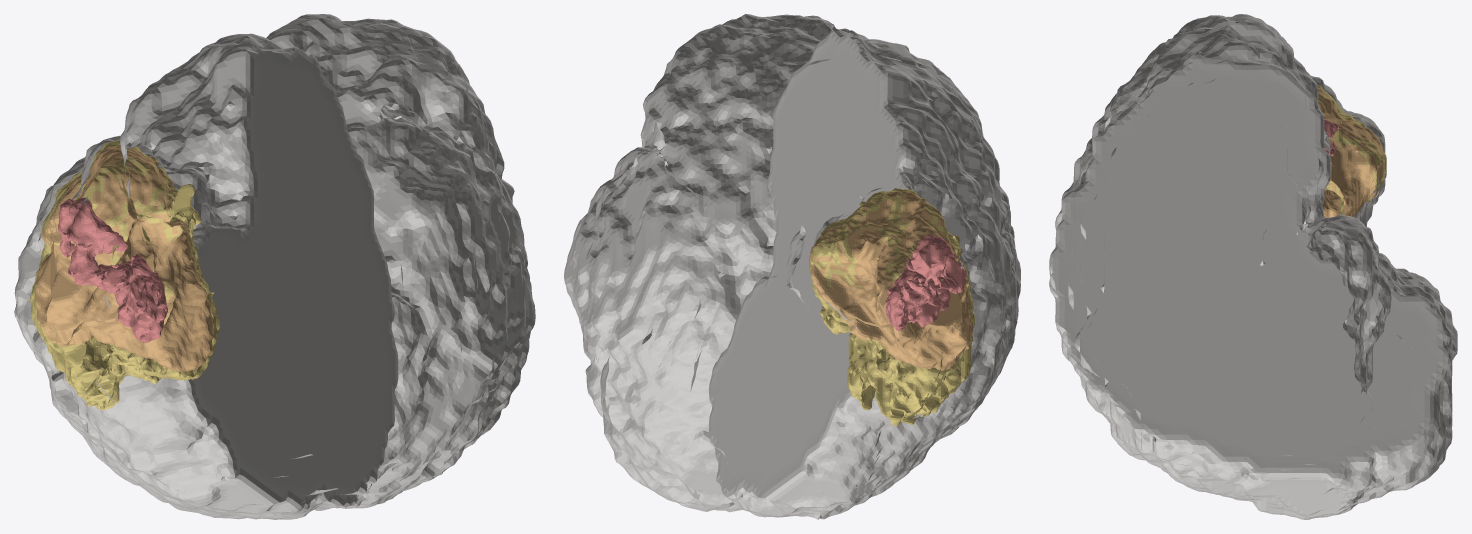
The picture shows the model from 3 angles, left to right: view 1: azimuth 30°, elevation 25°; view 2: azimuth 150°, elevation 25°; view 3: azimuth 270°, elevation 25°; orthographic projection. The views are drawn at different scales.
Parts seen in each view (by area): view 1: brain_left, brain_right, core, edema, enhancing; view 2: brain_left, brain_right, core, edema, enhancing; view 3: brain_right, brain_left, core, edema.
Part boxes in pixels (bbox=[...]): brain_left: bbox=[14, 33, 398, 519]; brain_right: bbox=[266, 14, 535, 510]; core: bbox=[35, 146, 213, 371]; edema: bbox=[30, 140, 219, 410]; enhancing: bbox=[57, 197, 167, 342]; brain_left: bbox=[709, 27, 1020, 519]; brain_right: bbox=[564, 14, 849, 512]; core: bbox=[809, 191, 973, 370]; edema: bbox=[809, 188, 974, 425]; enhancing: bbox=[885, 235, 965, 330]; brain_right: bbox=[1049, 53, 1452, 519]; brain_left: bbox=[1049, 14, 1457, 375]; core: bbox=[1318, 88, 1383, 217]; edema: bbox=[1317, 85, 1386, 214].
Size of the model in its own units: 150 by 156 by 134.
